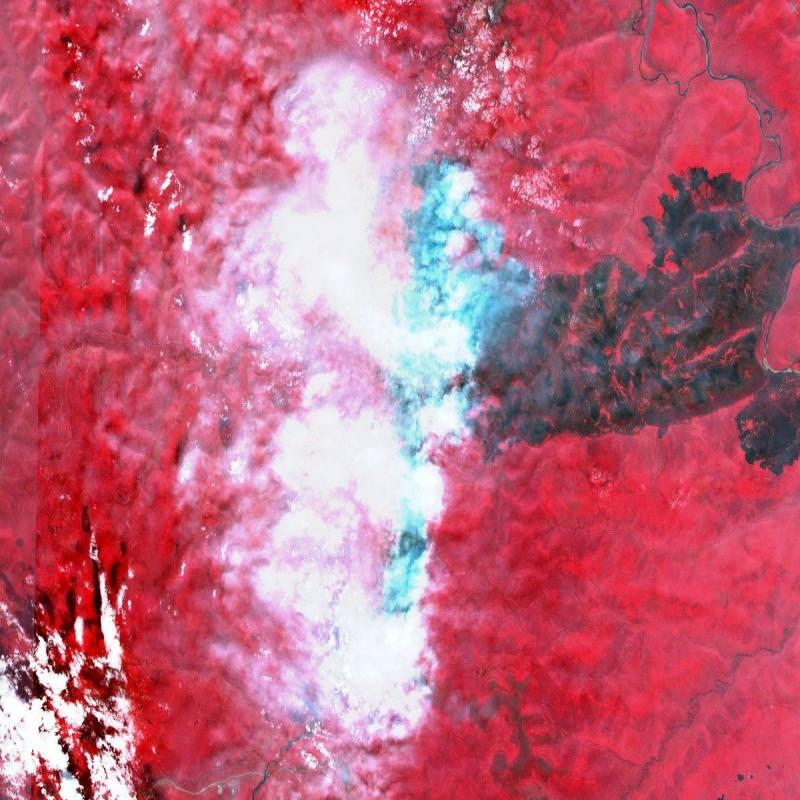fire: (380, 146, 533, 623)
